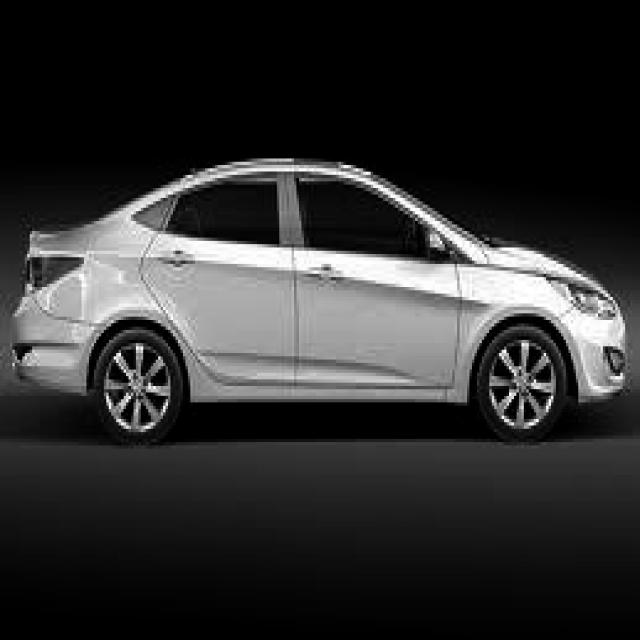car: (10, 155, 628, 445)
